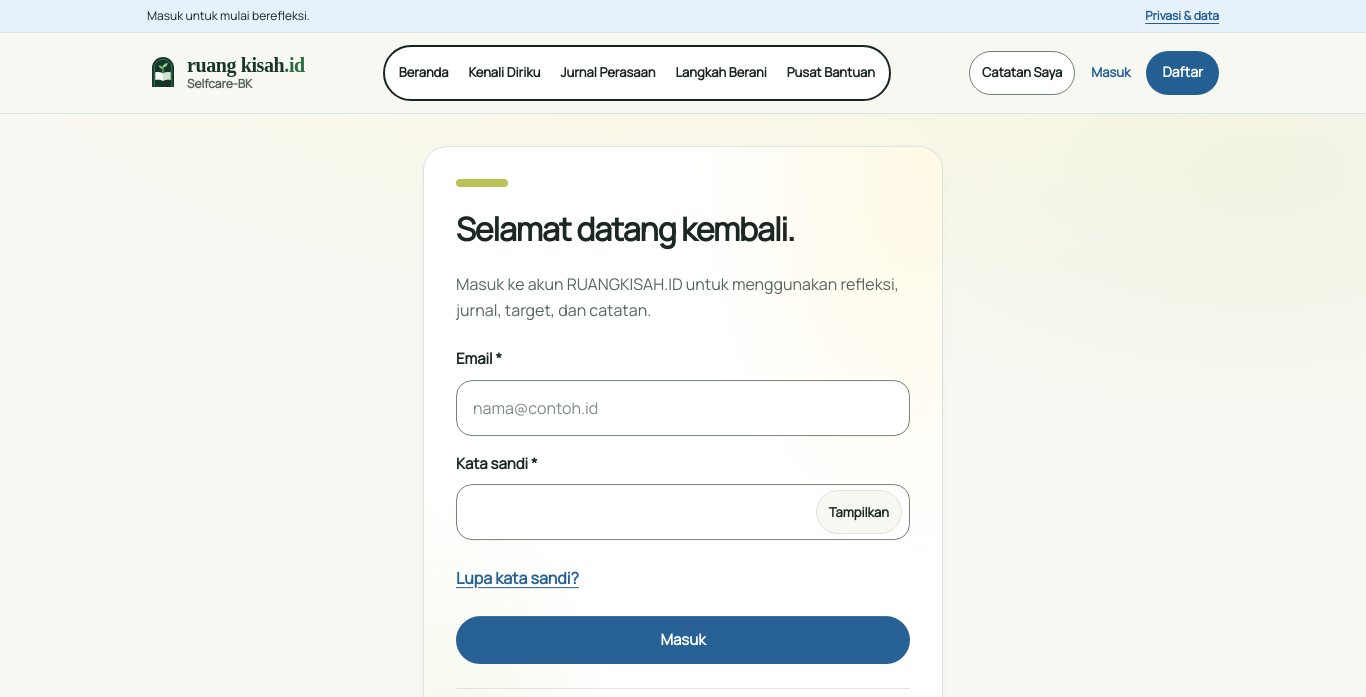
Test: async account UI › pengelola menghapus akun melalui konfirmasi dan menunggu hasil API
The image size is (1366, 697).
In the field labelled "Email *": (683, 408) [456, 380, 910, 436], type "superadmin@example.test"
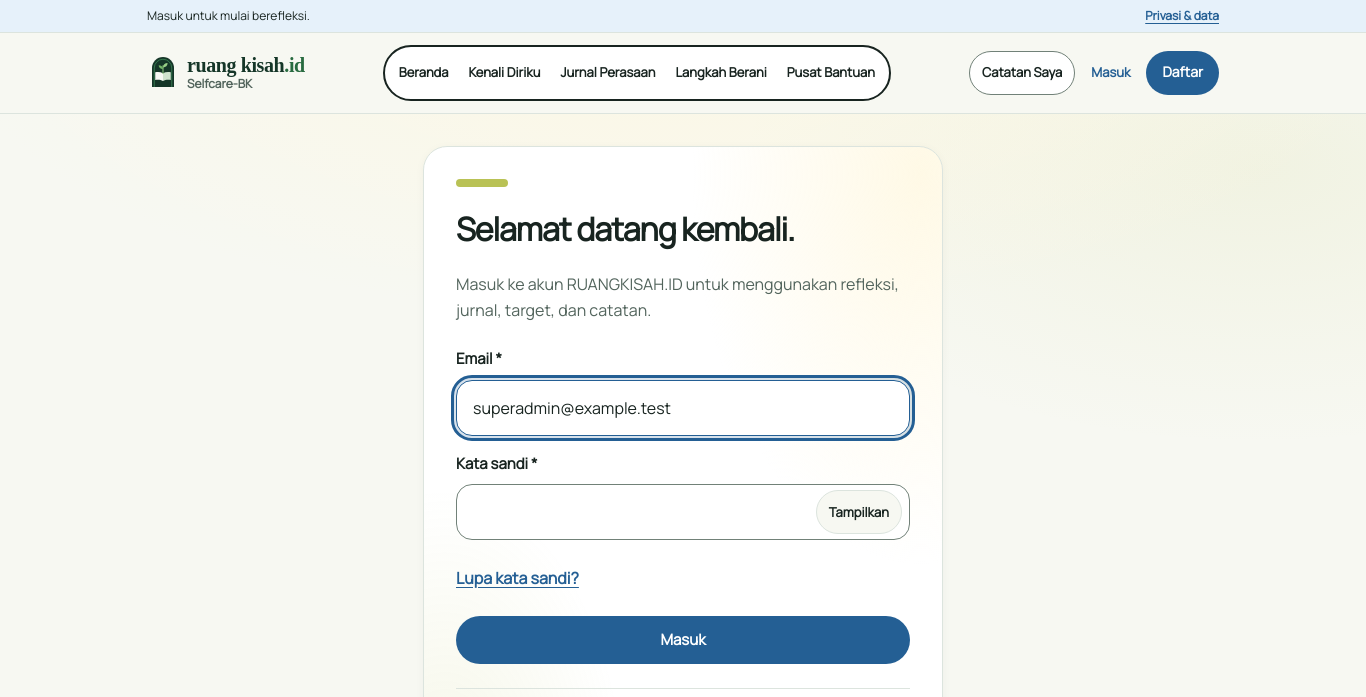
In the password field labelled "Kata sandi *": (683, 512) [456, 484, 910, 540], type "StrongPassword191!"
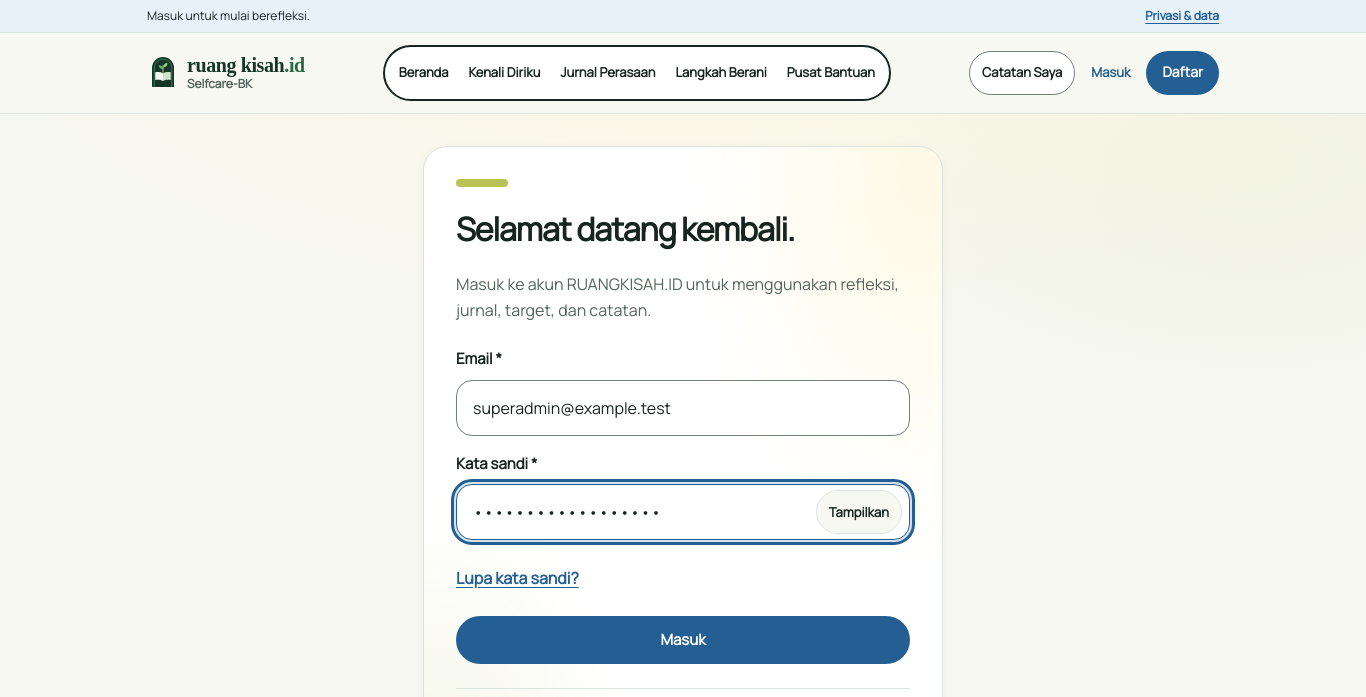
Click the button "Masuk": (683, 640) [456, 616, 910, 664]
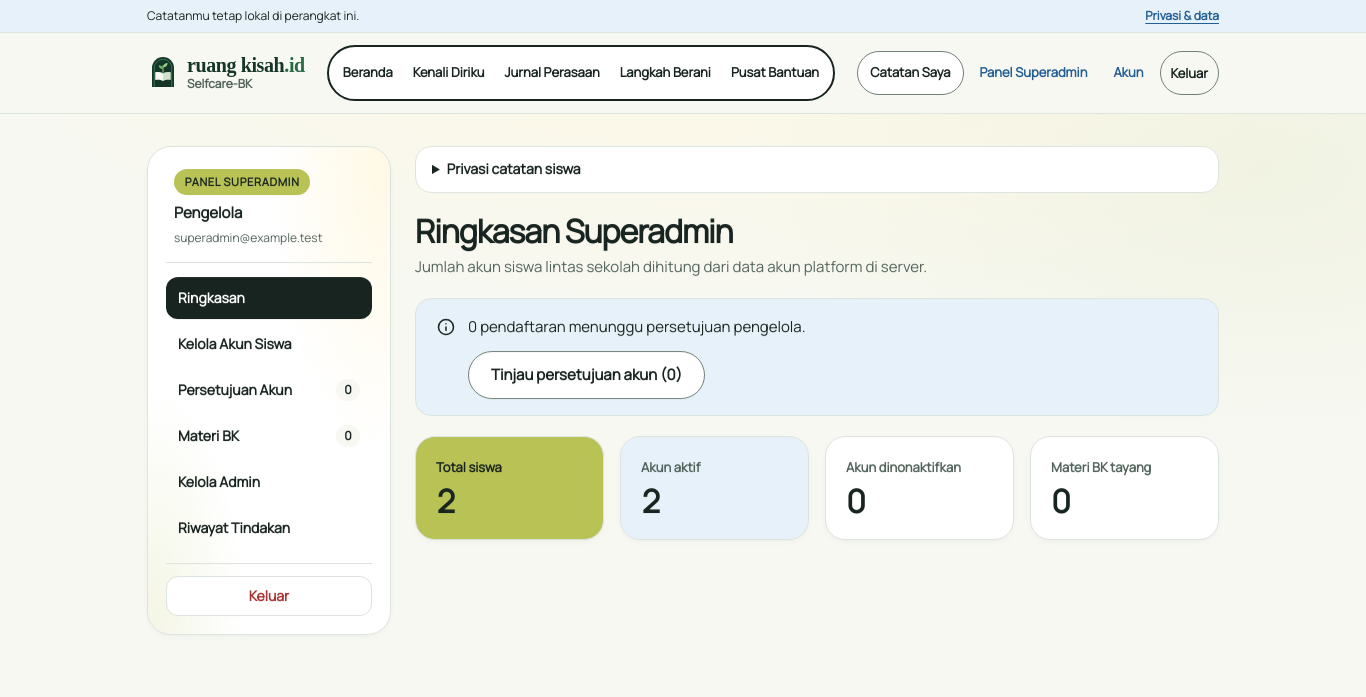
Now the heading "Ringkasan Superadmin" is shown, box [415, 209, 733, 253]
Click the button "Kelola Akun Siswa": (269, 344) [166, 323, 372, 365]
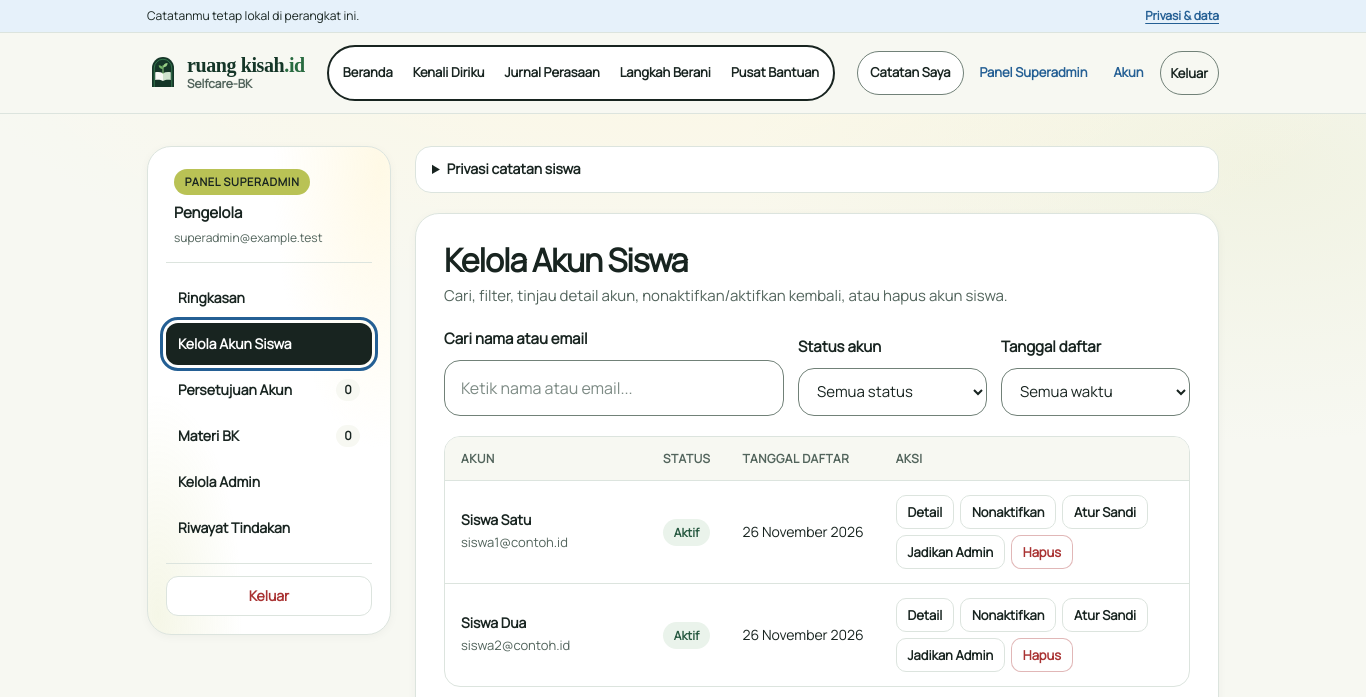
Click the button "Hapus" in the row of "siswa2@contoh.id": (1042, 655) [1011, 638, 1073, 672]
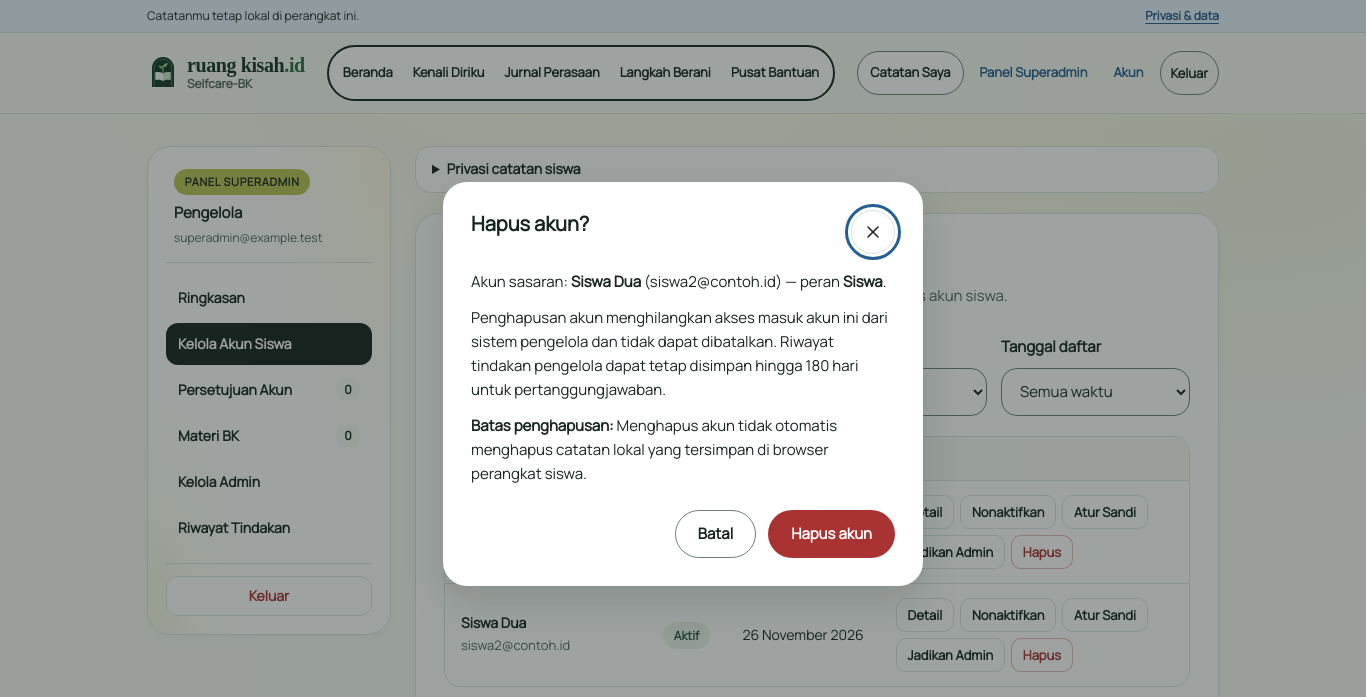
Now the text "tidak otomatis menghapus catatan lokal" is shown, box [471, 415, 837, 484]
Click the button "Hapus akun": (832, 534) [768, 510, 895, 558]
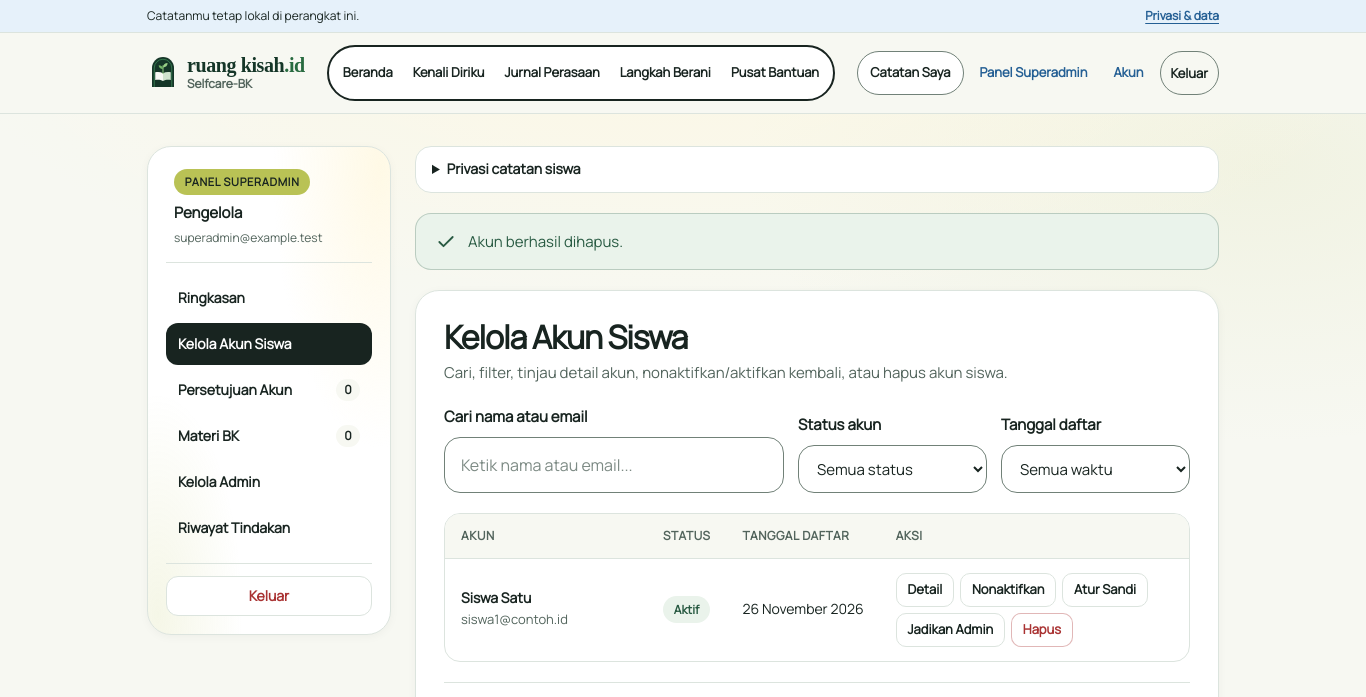
Now the text "Akun berhasil dihapus." is shown, box [468, 231, 623, 252]
Now the text "siswa2@contoh.id" is gone
